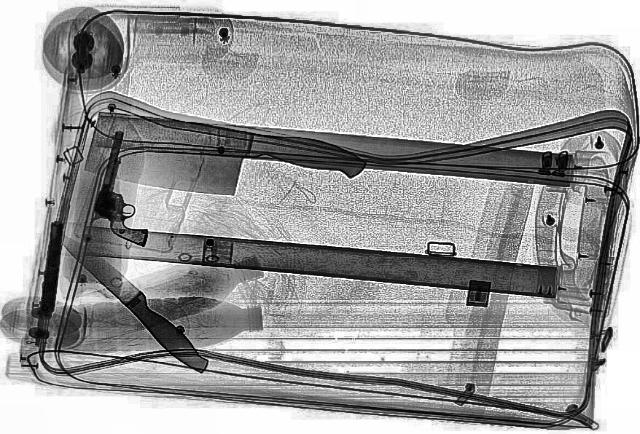Gun: (80, 129, 174, 242), (32, 220, 70, 316)
Knife: (77, 107, 373, 213), (42, 222, 220, 378)
